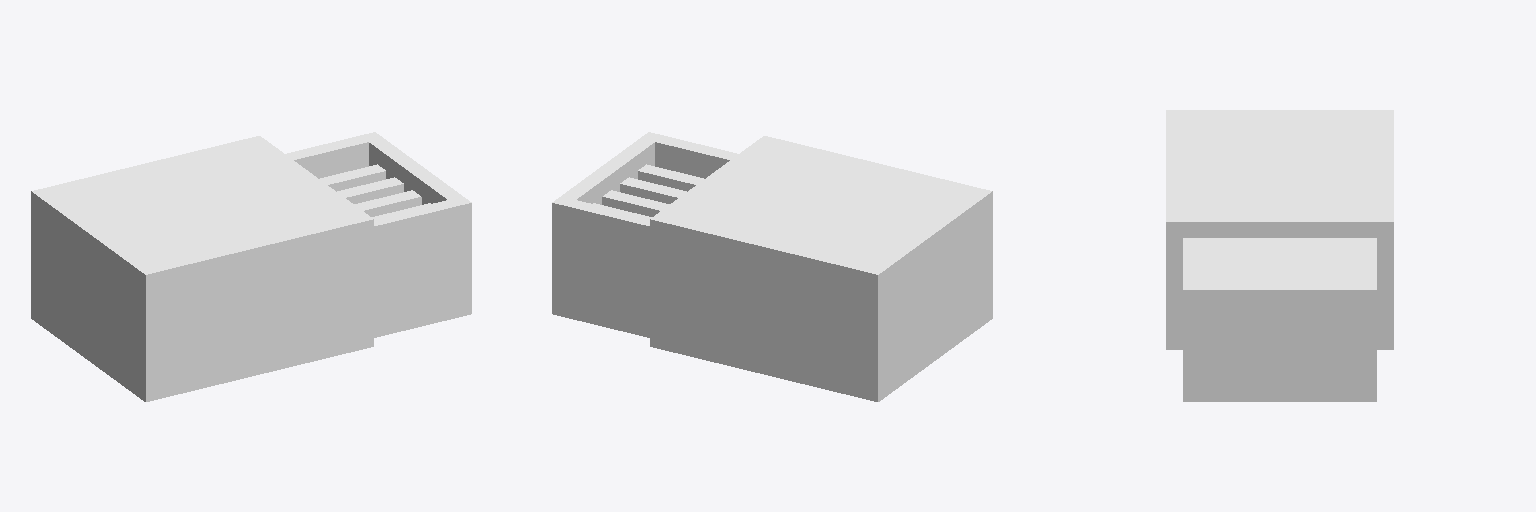
Rendered from 451shotbxA.obj.
3 renders of one model, left to right at view 1: azimuth 30°, elevation 25°; view 2: azimuth 150°, elevation 25°; view 3: azimuth 270°, elevation 25°, orthographic.
Parts seen in each view (by area): view 1: object 1; view 2: object 1; view 3: object 1.
Boxes of the visible parts, x1,y1,x2,y2 form: object 1: [31, 132, 471, 401]; object 1: [552, 132, 992, 401]; object 1: [1166, 110, 1393, 401].
Bounding box in the file's own units: 2.2 × 0.8 × 1.3.